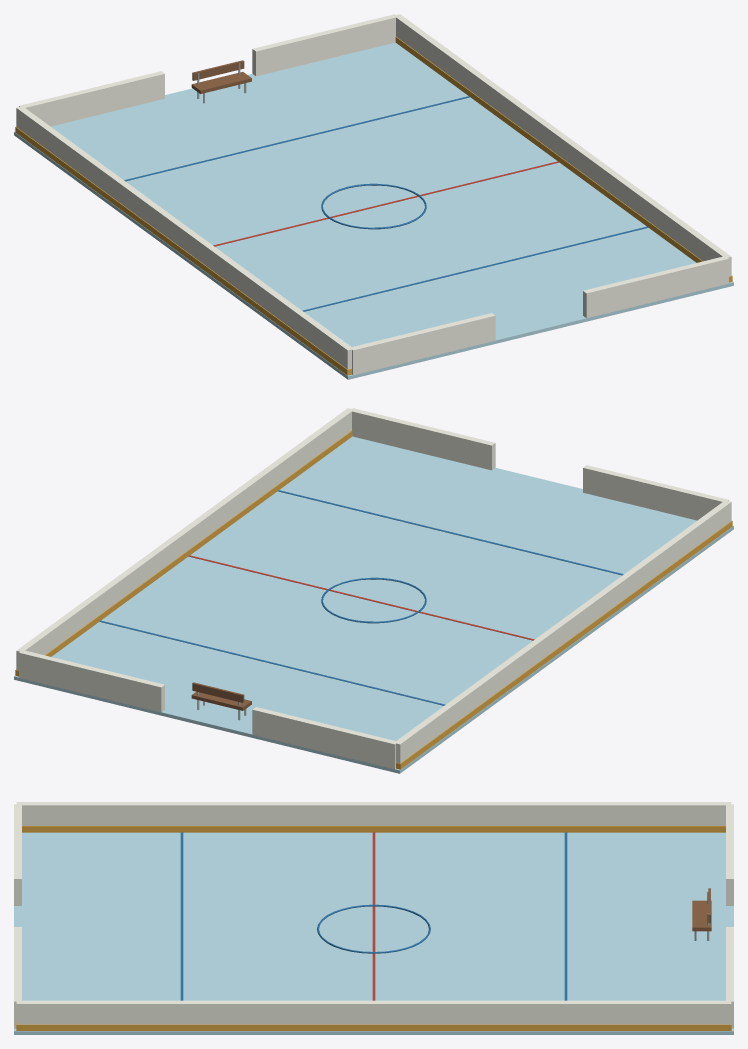
File: scendance-plan-ice-skating.glb
3 views of the same model, one above another, from view 1: azimuth 30°, elevation 25°; view 2: azimuth 150°, elevation 25°; view 3: azimuth 270°, elevation 25° (orthographic). The views are drawn at different scales.
Size of the model in its own units: 12 by 0.88 by 18.
